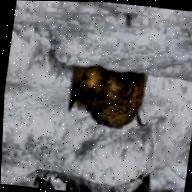boar: (63, 63, 152, 133)
